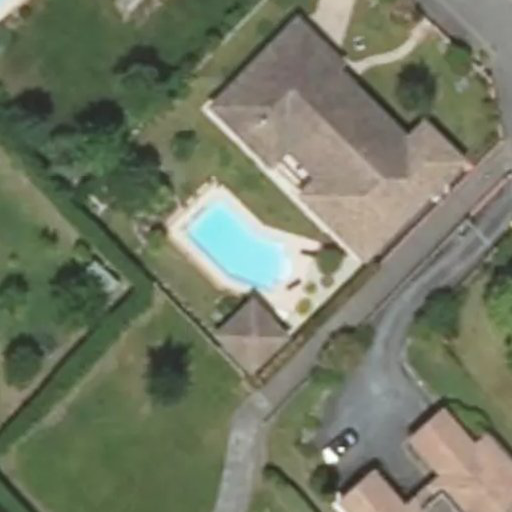pool: (208, 234, 305, 251)
